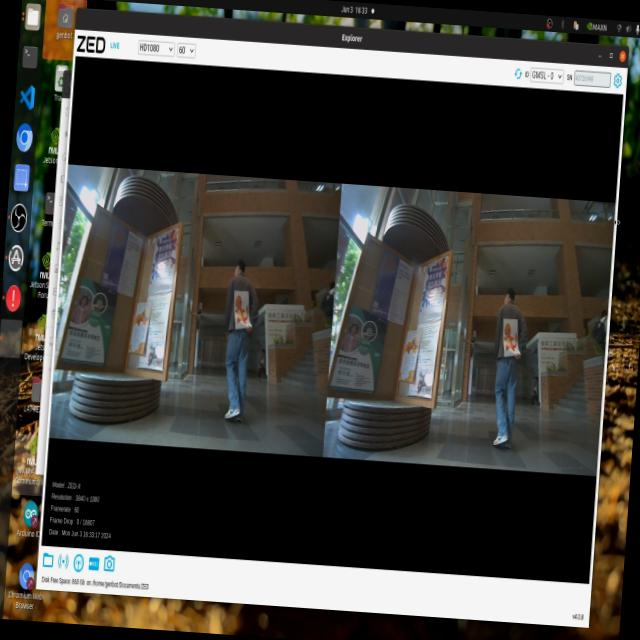red: (231, 289, 253, 332), (500, 316, 520, 362)
